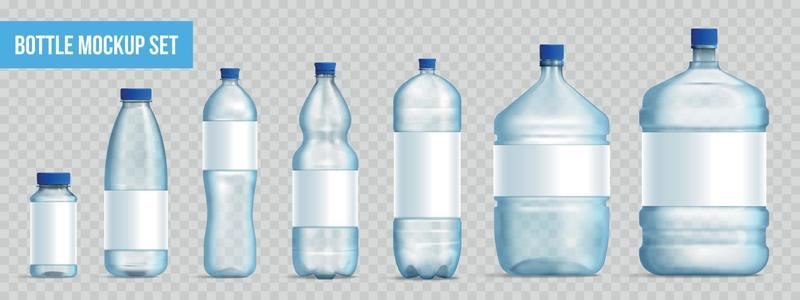plastic_bottle: (630, 22, 777, 282), (487, 37, 621, 280), (384, 53, 472, 280), (281, 52, 366, 283), (197, 64, 265, 273), (101, 87, 175, 277), (24, 164, 81, 282)
